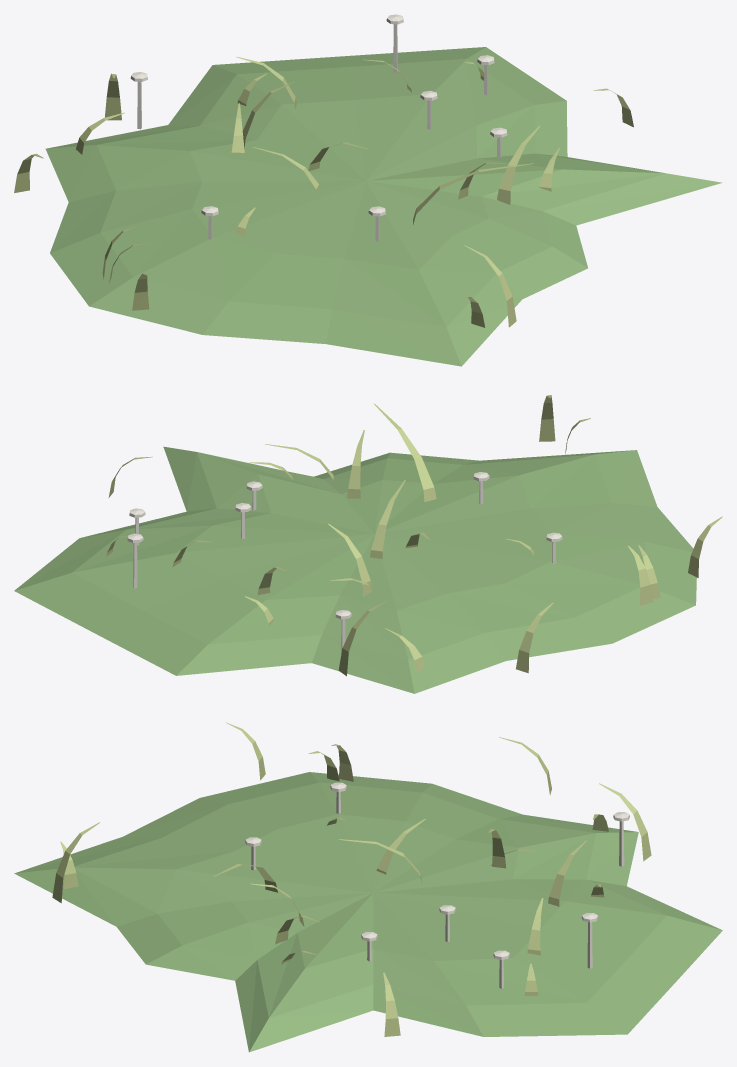
The model's file is dense-temperate-forest-flora-wood-sorrel-patch-4acf8a8a__28399.glb.
3 views of the same model, one above another, from view 1: azimuth 30°, elevation 25°; view 2: azimuth 150°, elevation 25°; view 3: azimuth 270°, elevation 25° (orthographic). The views are drawn at different scales.
Visible parts, largest first — view 1: wood-sorrel-patch; view 2: wood-sorrel-patch; view 3: wood-sorrel-patch.
Boxes of the visible parts, left/top/right/bottom form: wood-sorrel-patch: left=14, top=14, right=722, bottom=366; wood-sorrel-patch: left=14, top=395, right=722, bottom=693; wood-sorrel-patch: left=14, top=722, right=722, bottom=1052.
Size of the model in its own units: 1 by 0.1322 by 1.07.
